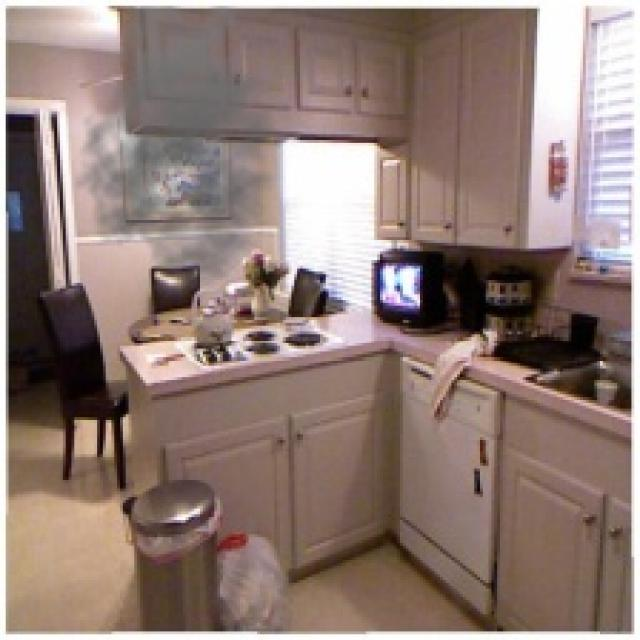smoke: (71, 6, 300, 286)
